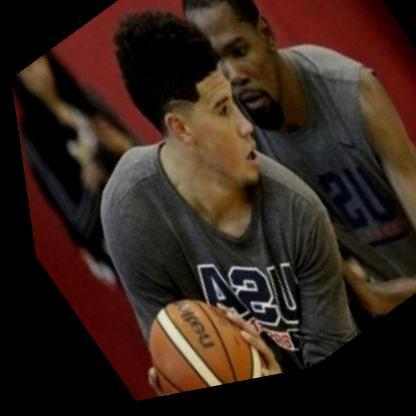basketball: (99, 259, 278, 406)
